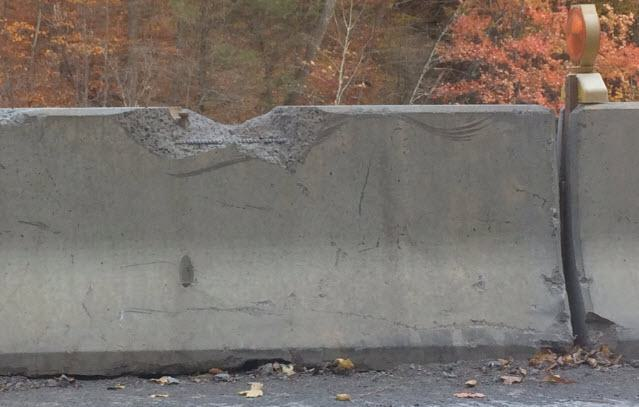Exposed reinforcement: (174, 137, 289, 144)
Spalling: (108, 106, 352, 170)
